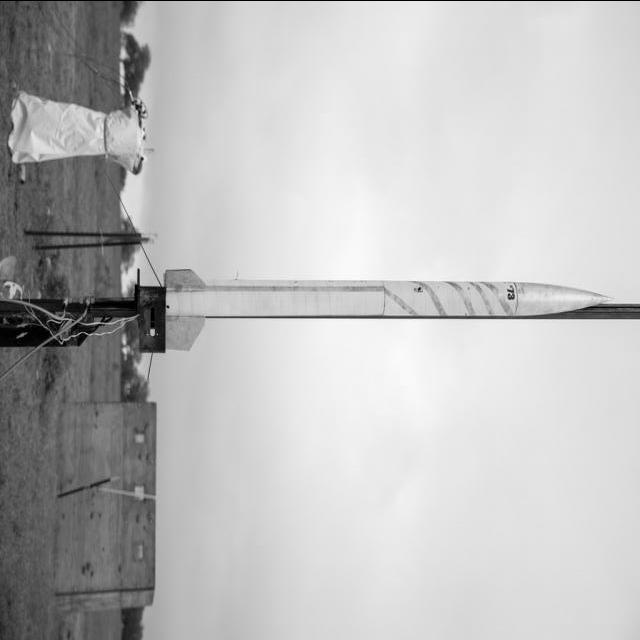missile: (158, 274, 608, 324)
